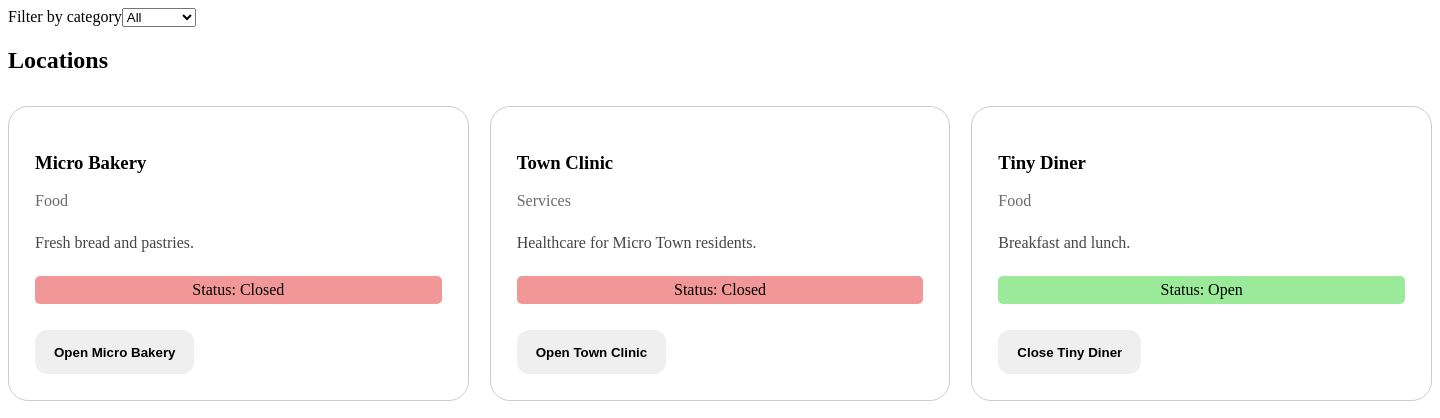
Test case: LocationList › filters locations by category
Select "Services" in the dropdown labelled "Filter by category" at coordinates (159, 18), box top-left (122, 8), bottom-right (196, 27)
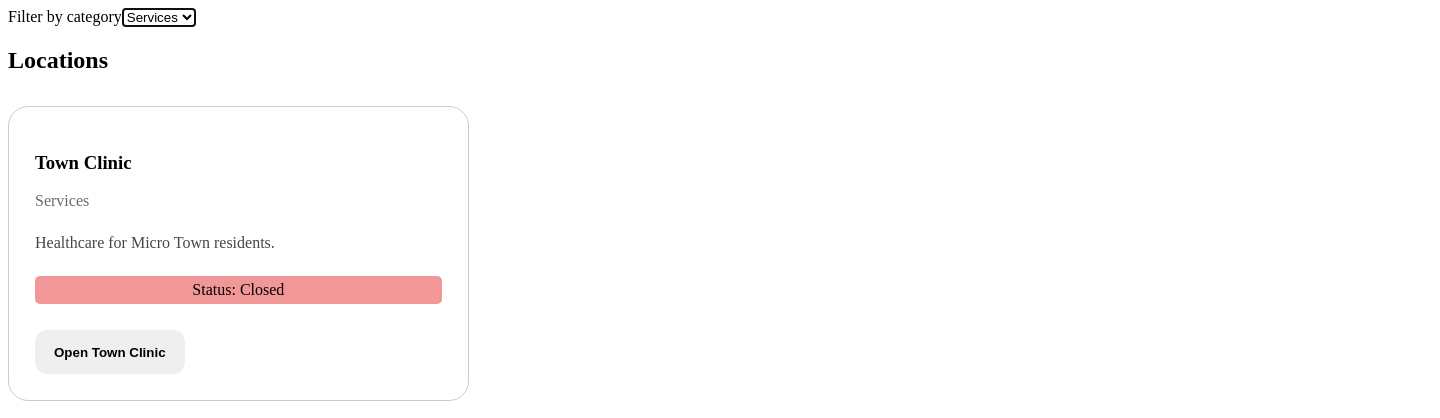
Expected: the heading "Micro Bakery" is gone
Expected: the heading "Tiny Diner" is gone
Expected: the number of list items is 1, top-left (8, 106), bottom-right (469, 401)
